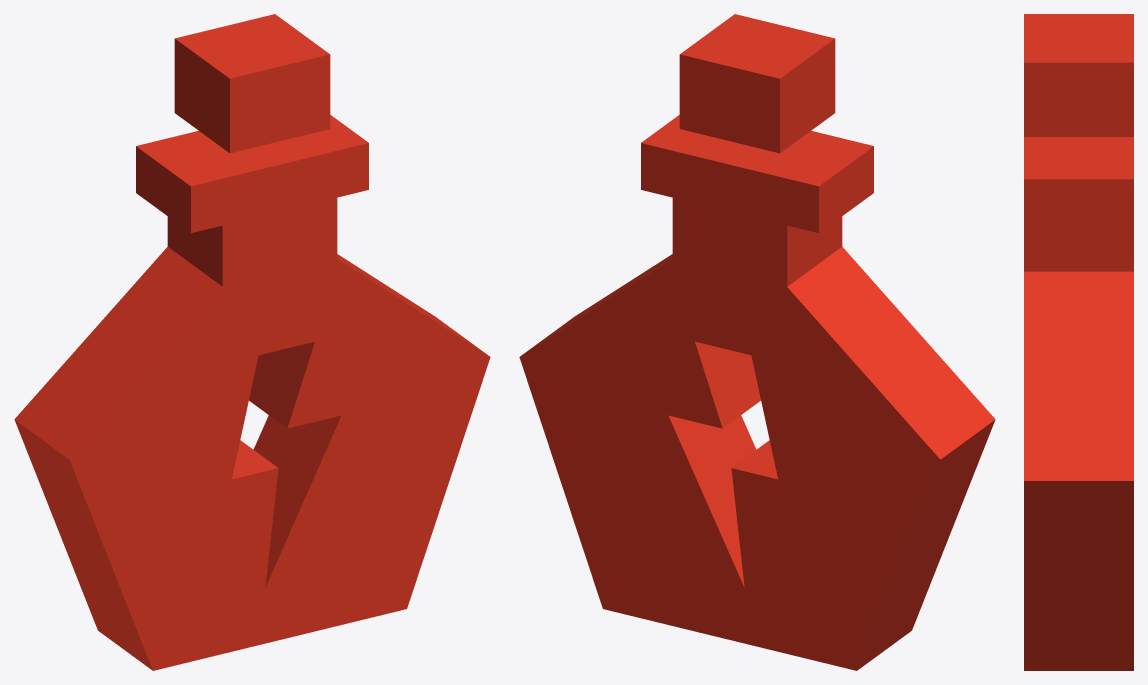
The model's file is Icon_Potion_06.fbx.
3 views of the same model, side by side, from view 1: azimuth 30°, elevation 25°; view 2: azimuth 150°, elevation 25°; view 3: azimuth 270°, elevation 25° (orthographic).
Parts seen in each view (by area): view 1: Icon_Potion_06; view 2: Icon_Potion_06; view 3: Icon_Potion_06.
Part boxes in pixels (box(x1,y1,x2,y2)): Icon_Potion_06: box(14, 14, 490, 670); Icon_Potion_06: box(519, 14, 995, 670); Icon_Potion_06: box(1024, 14, 1133, 670).
Size of the model in its own units: 53.2 by 69.22 by 12.06.
